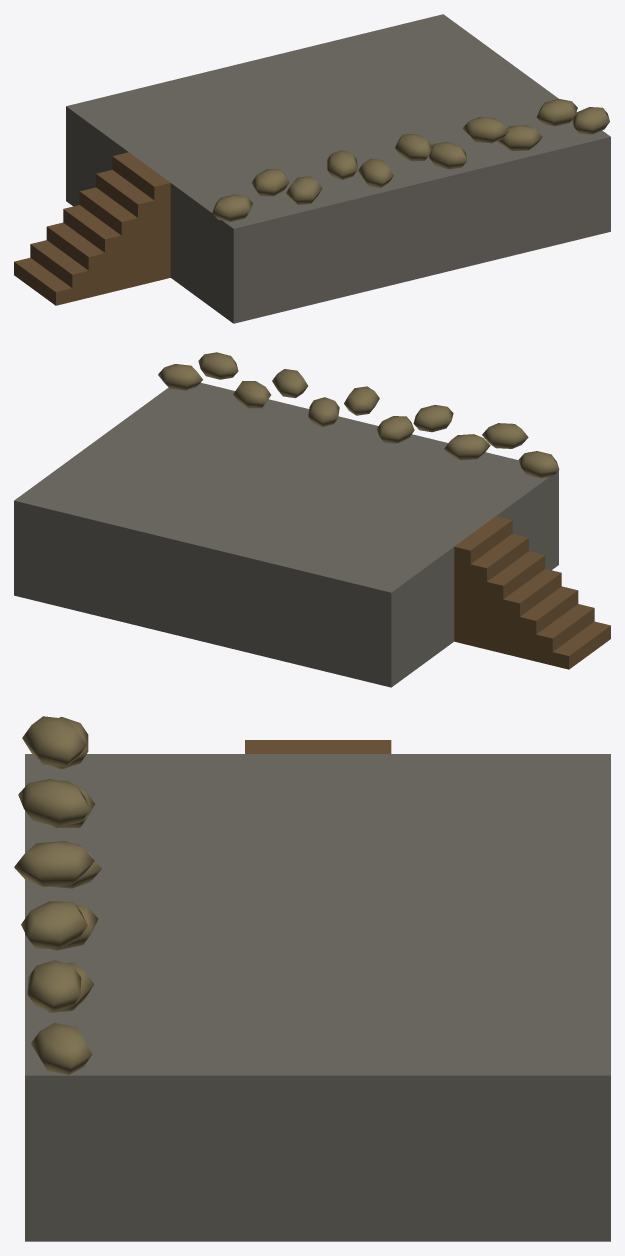
The model's file is bldg_concrete_platform.glb.
The picture shows the model from 3 angles, top to bottom: view 1: azimuth 30°, elevation 25°; view 2: azimuth 150°, elevation 25°; view 3: azimuth 270°, elevation 25°; orthographic projection. The views are drawn at different scales.
Parts seen in each view (by area): view 1: Bldg_ConcretePlatform, StairFlight, SandbagBasePanel; view 2: Bldg_ConcretePlatform, StairFlight, SandbagBasePanel; view 3: Bldg_ConcretePlatform, SandbagBasePanel, StairFlight.
Part boxes in pixels (x1,y1,x2,y2): Bldg_ConcretePlatform: (66, 14, 610, 323); StairFlight: (14, 152, 170, 305); SandbagBasePanel: (212, 99, 609, 221); Bldg_ConcretePlatform: (14, 383, 558, 687); StairFlight: (454, 516, 610, 669); SandbagBasePanel: (158, 352, 559, 478); Bldg_ConcretePlatform: (25, 754, 610, 1241); SandbagBasePanel: (14, 716, 101, 1074); StairFlight: (245, 740, 391, 753).
Size of the model in its own units: 8.31 by 2.14 by 4.89.
